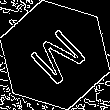M_SE: (20, 21, 90, 89)
